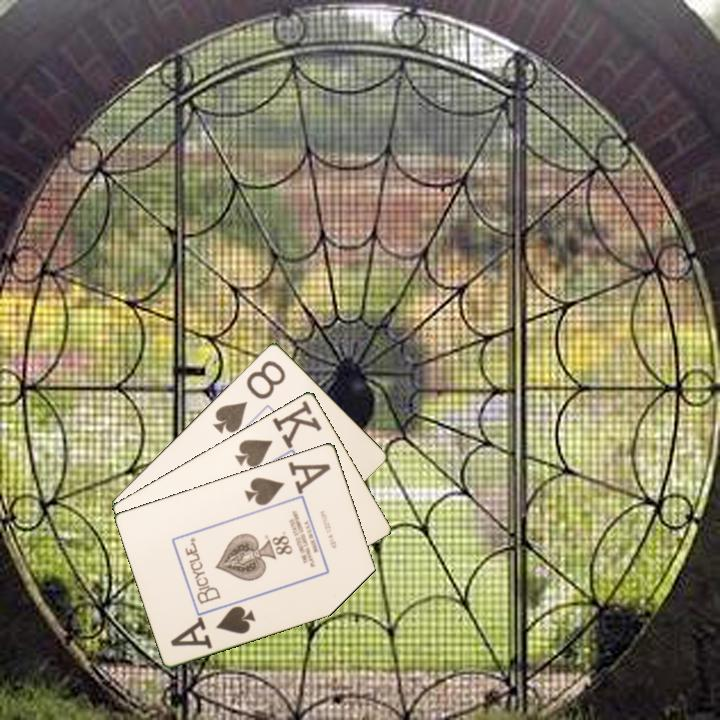8s: (209, 356, 289, 436)
As: (167, 602, 259, 652), (241, 464, 325, 508)
Ks: (231, 396, 325, 470)
